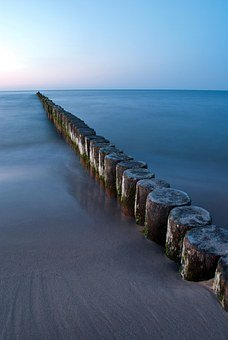sea: (4, 88, 227, 338)
sky: (1, 1, 226, 87)
